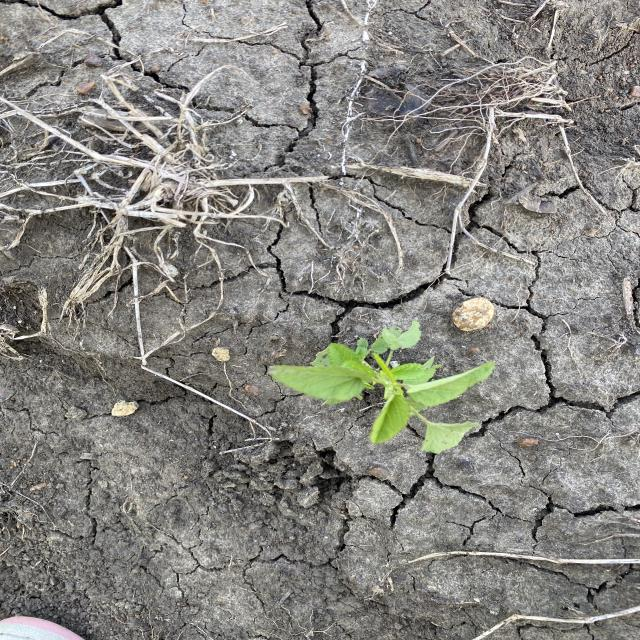PricklySida: (265, 318, 501, 457)
